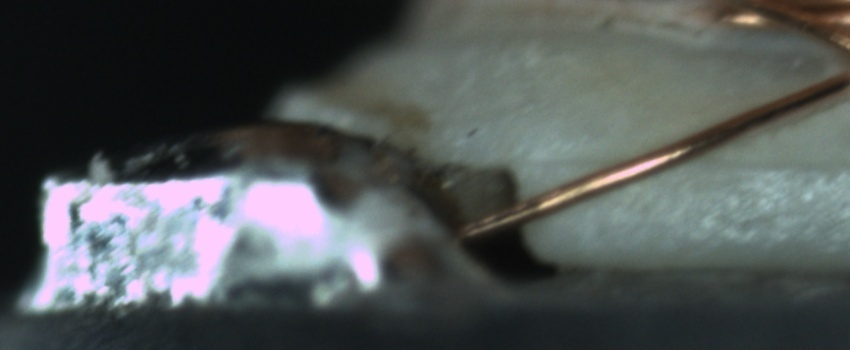DL: (536, 132, 850, 195)
